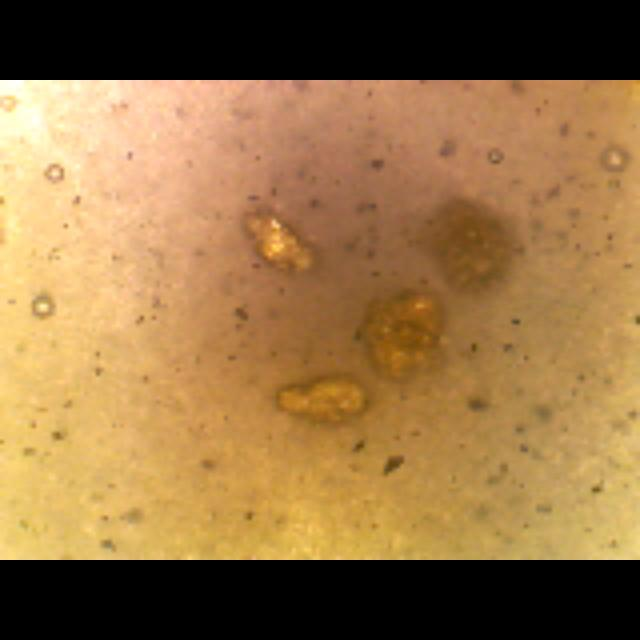Fragment: (416, 196, 530, 298), (348, 288, 458, 392), (232, 204, 322, 286), (268, 368, 374, 432)
